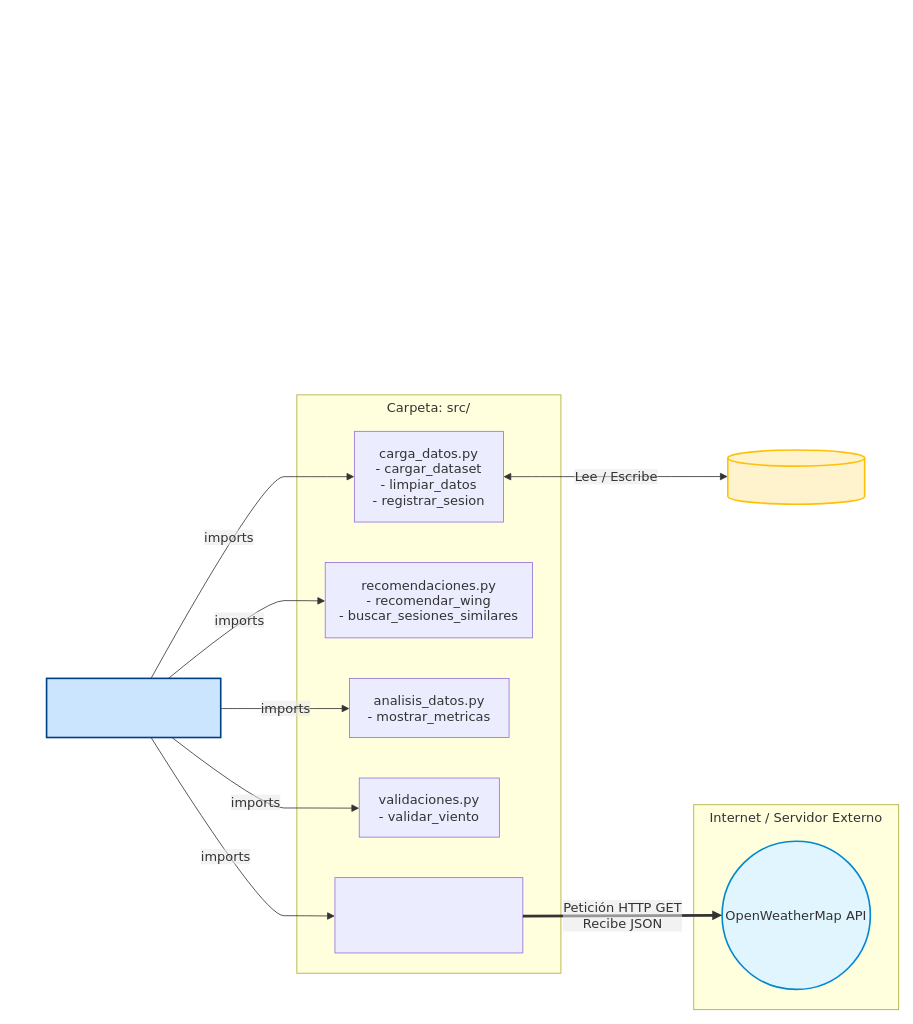
Some shapes in this 913 by 1024 pixel diagram are drawn without their labels. The centre of each missing label's shape, as x and y in pixels:
api_clima.py - consultar_clima - procesar_datos_viento: pixel 428 915
dataset_sesiones.xlsx: pixel 796 477
main.py Orquestador Principal: pixel 133 707
